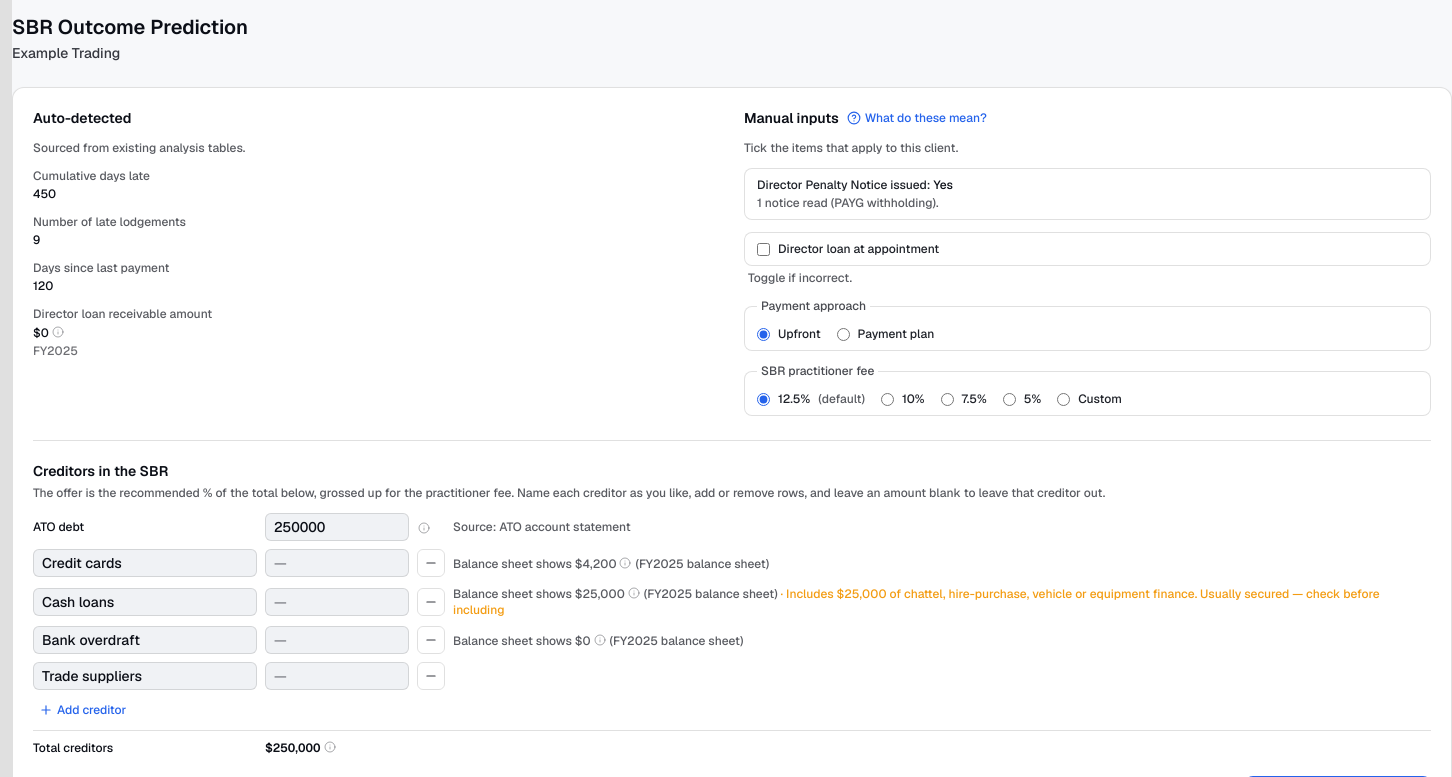
Creditors in the SBR › will not run with an amount that is not a number
The width and height of the screenshot is (1452, 777).
Type "abc" into the field named "Creditor 2 amount" at (337, 602), box [265,588,409,616]
(page scrolled)
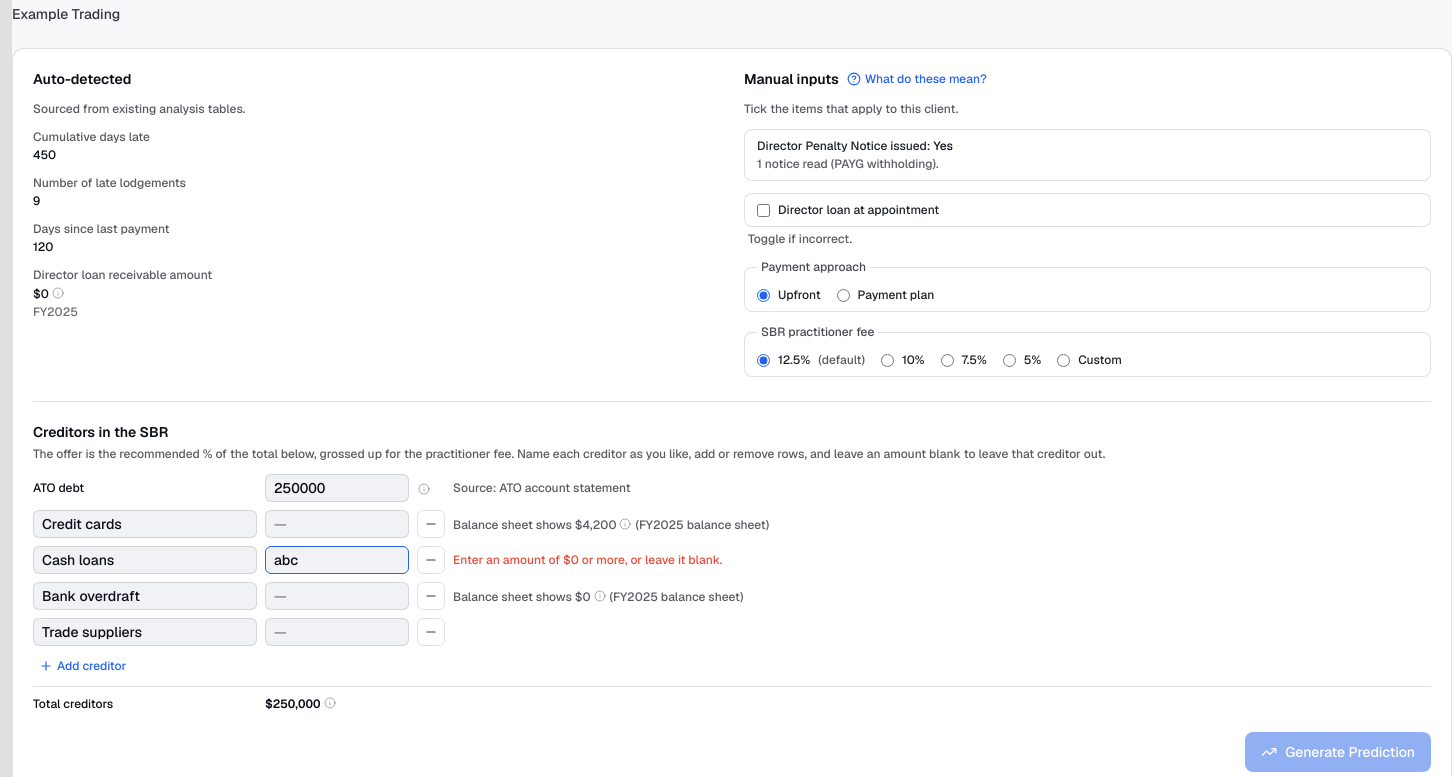
Result: the text "Enter an amount of $0 or more, or leave it blank." is shown at [453,552,722,568]
Result: the button "Generate Prediction" is disabled at [1245,732,1431,772]
